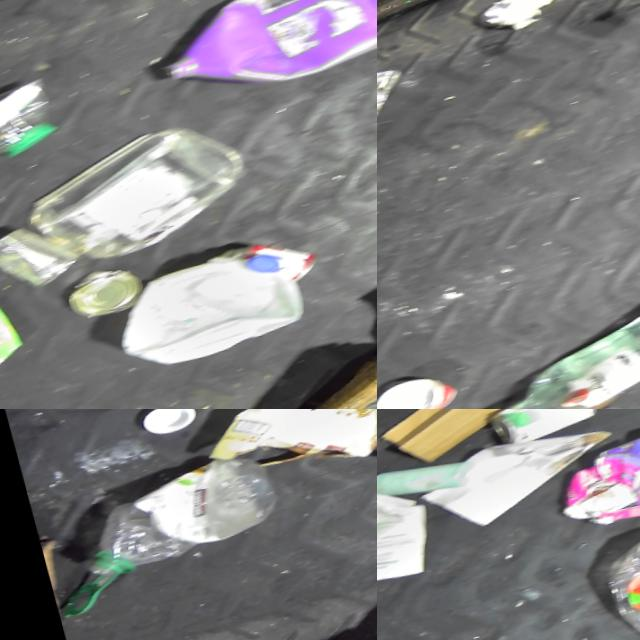can: (0, 211, 82, 304), (57, 258, 144, 330), (479, 409, 600, 455), (377, 362, 459, 409)
milk_jug: (103, 239, 308, 385)
non_white_jug: (143, 0, 377, 124), (0, 286, 30, 397)
plastic_bottle: (0, 71, 67, 185), (595, 512, 640, 640)
